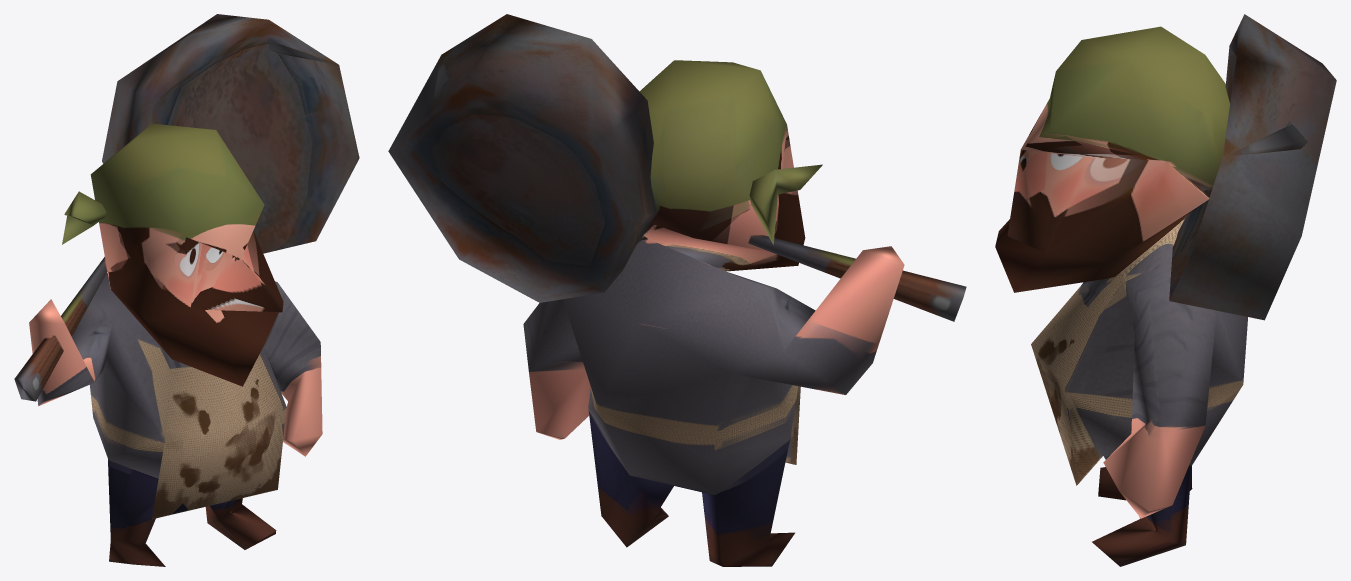
Rendered from chef4.glb.
3 views of the same model, side by side, from view 1: azimuth 30°, elevation 25°; view 2: azimuth 150°, elevation 25°; view 3: azimuth 270°, elevation 25° (orthographic). The views are drawn at different scales.
Size of the model in its own units: 0.9004 by 0.9916 by 0.5739.
Materials: 1 (1 with a texture image).
